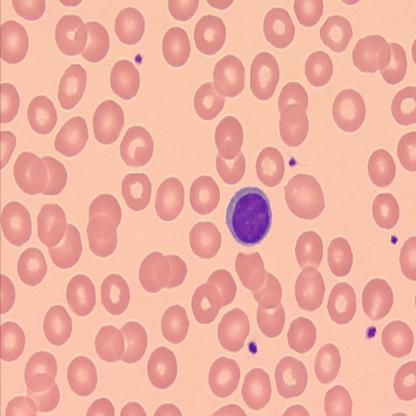Lymphocyte: (225, 185, 273, 248)
